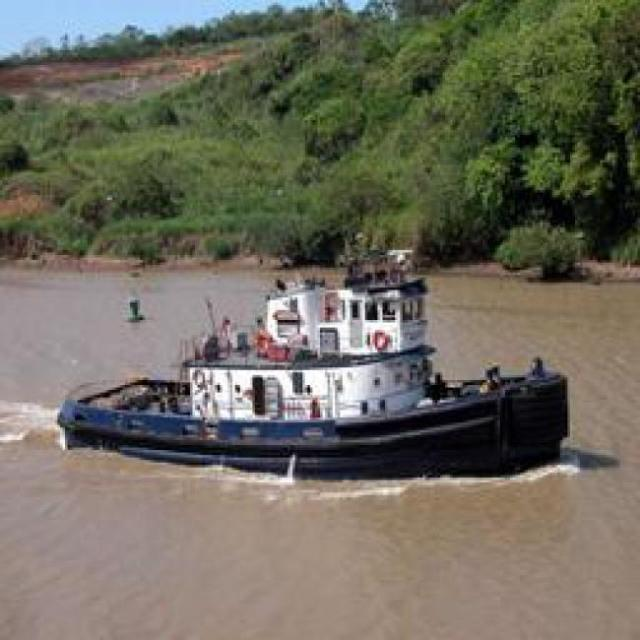boat: (74, 272, 585, 464)
